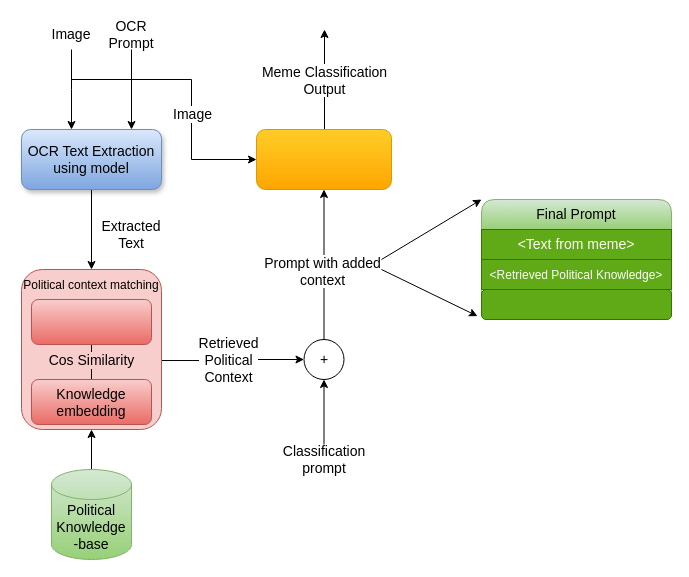
Image size: 689x577. Some labels were removed from this diagram. Here are the shapes that lost their labels. From the top down, the centre of each, then its label:
(x=324, y=159): Finetuned model
(x=91, y=321): Text embedding
(x=576, y=304): <Classification Prompt>
